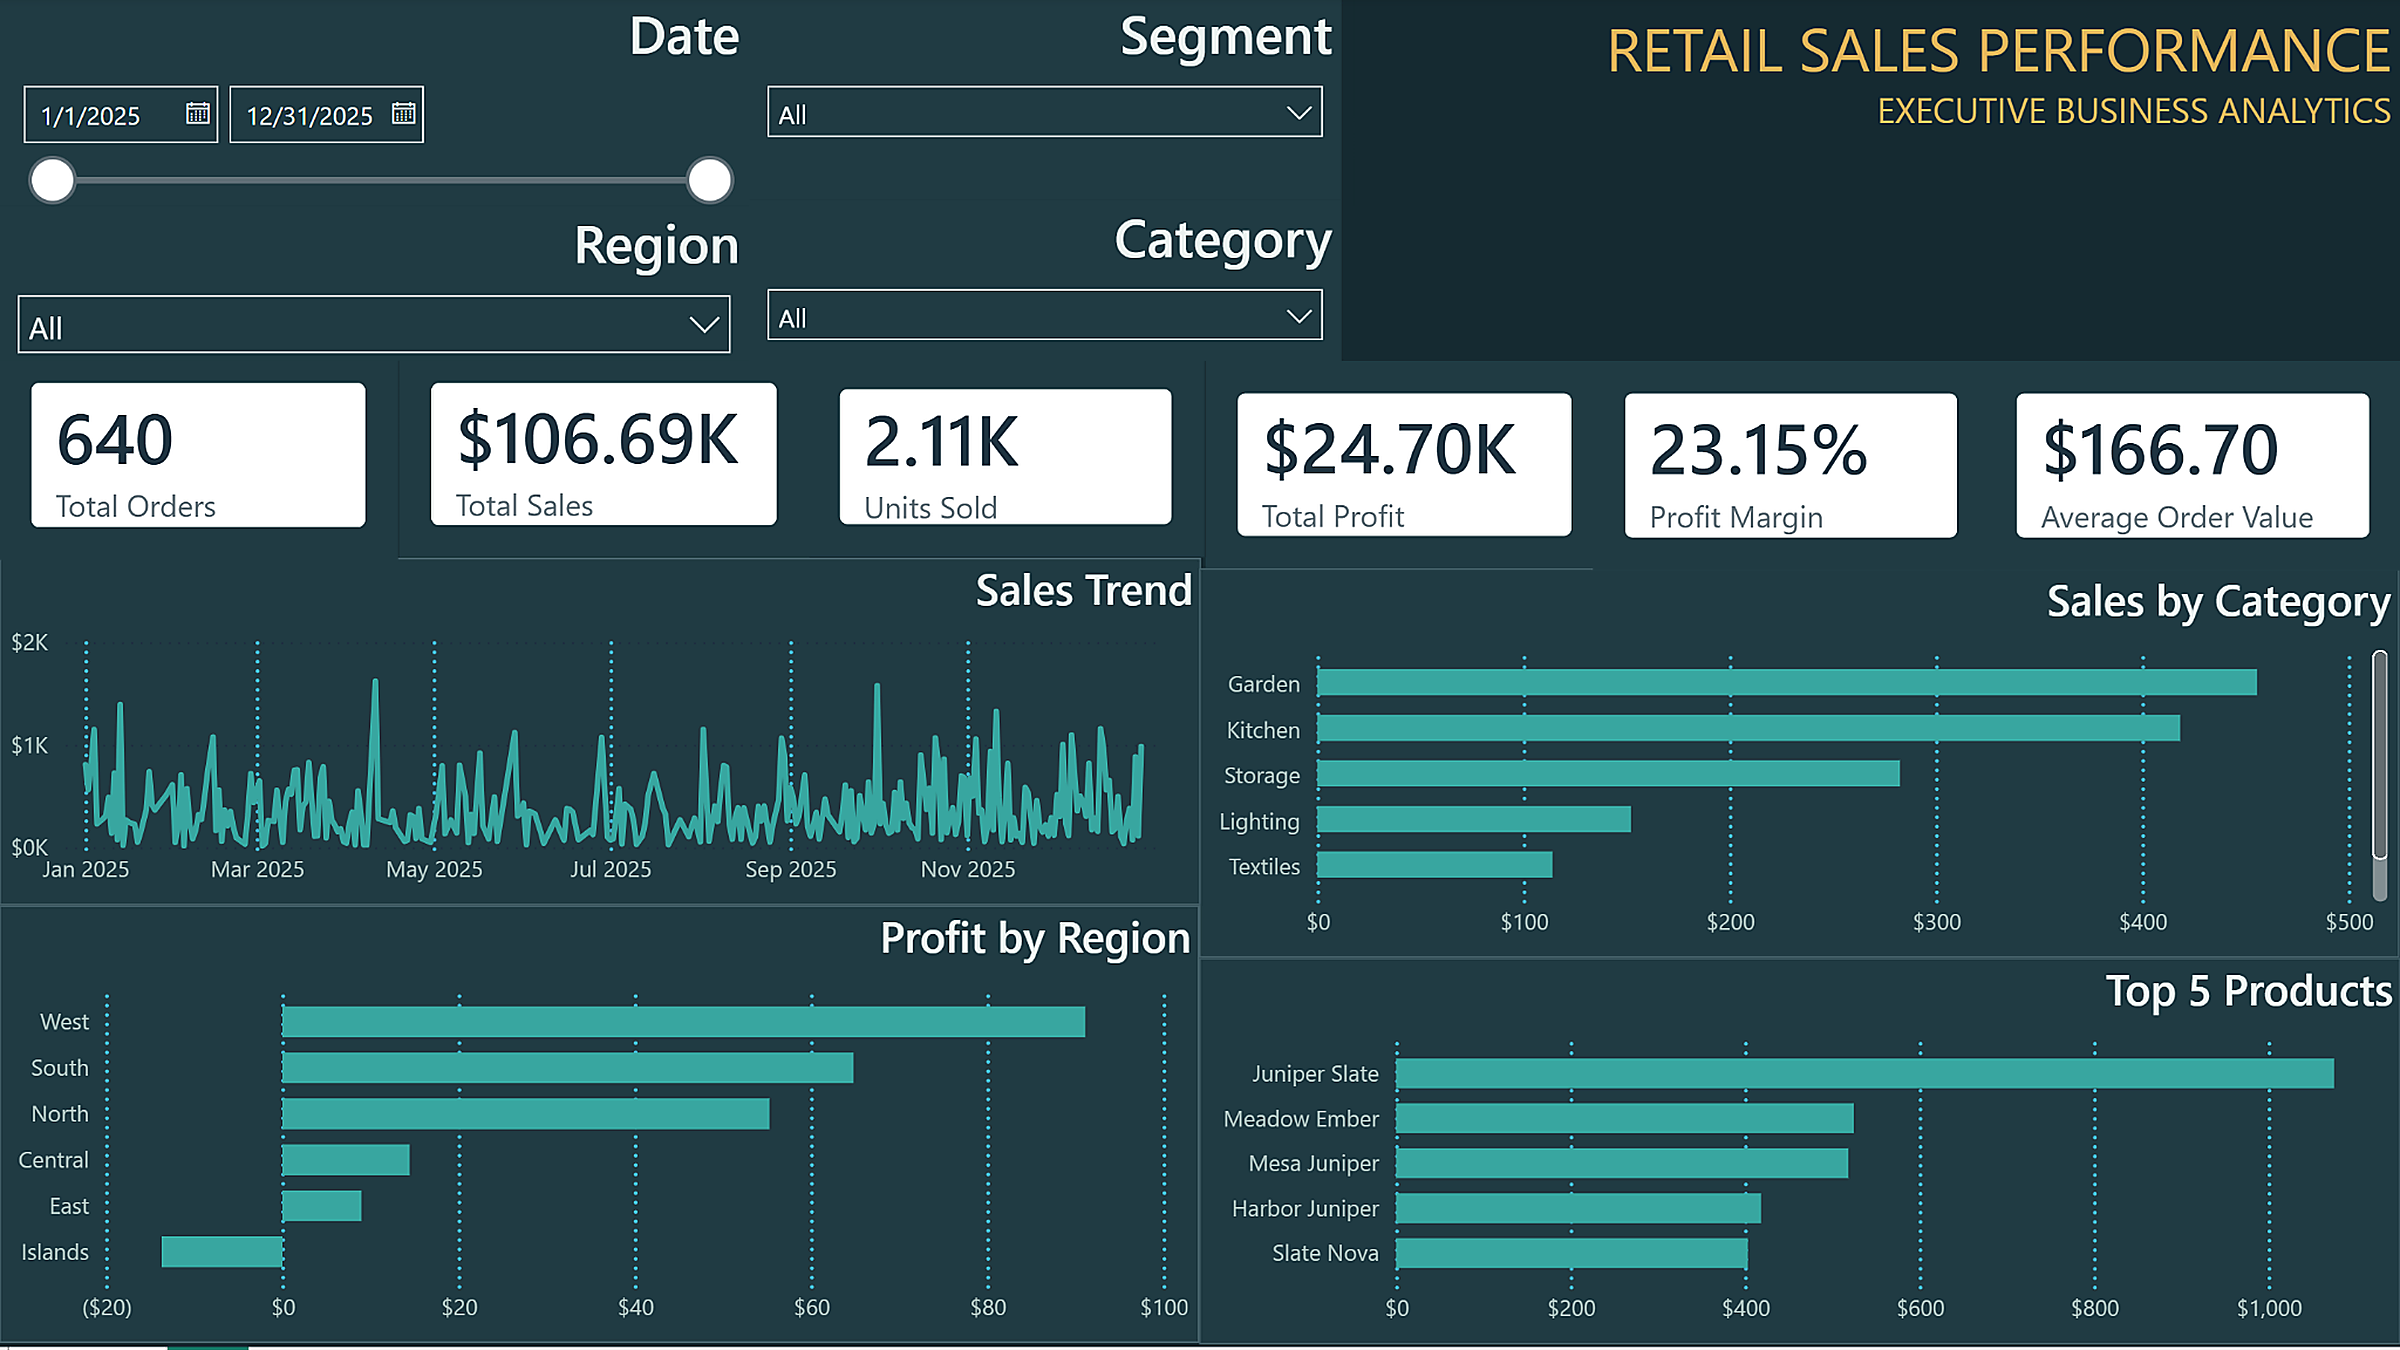

What the dashboard file says about the page in this screenshot:
{"tool":"powerbi","page":{"name":"Page 1","canvas":[1280,720],"ordinal":0},"visuals":[{"type":"lineChart","title":"Sales Trend","fields":{"Y":["تعداد، قیمت، تخفیف و سود اقلام.Total Sales"],"Category":["سفارشها، تاریخ و روش ارسال.order_date.Variation.Date Hierarchy.Year","سفارشها، تاریخ و روش ارسال.order_date.Variation.Date Hierarchy.Quarter","سفارشها، تاریخ و روش ارسال.order_date.Variation.Date Hierarchy.Month","سفارشها، تاریخ و روش ارسال.order_date.Variation.Date Hierarchy.Day"]},"box":[0,299.3,640.9,185.4],"z":0},{"type":"clusteredBarChart","title":"Sales by Category","fields":{"Category":["دستهبندی محصولات.category_name"],"Y":["تعداد، قیمت، تخفیف و سود اقلام.Total Sales"]},"box":[639.8,304.8,639.8,207.7],"z":1000},{"type":"clusteredBarChart","title":"Profit by Region","fields":{"Category":["مناطق فروش.region_name"],"Y":["تعداد، قیمت، تخفیف و سود اقلام.Total Profit"]},"box":[0,484.6,639.8,233.4],"z":2000},{"type":"clusteredBarChart","title":"Top 5 Products","fields":{"Category":["محصولات، قیمت و هزینه.product_name"],"Y":["تعداد، قیمت، تخفیف و سود اقلام.Total Sales"]},"box":[639.5,512.8,640.7,205.8],"z":3000},{"type":"cardVisual","fields":{"Data":["تعداد، قیمت، تخفیف و سود اقلام.Average Order Value"]},"box":[1058.1,194.2,222.1,111.6],"z":4000},{"type":"cardVisual","fields":{"Data":["تعداد، قیمت، تخفیف و سود اقلام.Profit Margin"]},"box":[850,194.2,211.6,111.6],"z":5000},{"type":"cardVisual","fields":{"Data":["تعداد، قیمت، تخفیف و سود اقلام.Total Orders"]},"box":[0,188.4,212.8,111.6],"z":6000},{"type":"cardVisual","fields":{"Data":["تعداد، قیمت، تخفیف و سود اقلام.Total Profit"]},"box":[643,194.2,212.8,110.5],"z":7000},{"type":"cardVisual","fields":{"Data":["تعداد، قیمت، تخفیف و سود اقلام.Total Sales"]},"box":[212.8,188.4,218.6,110.5],"z":8000},{"type":"cardVisual","fields":{"Data":["تعداد، قیمت، تخفیف و سود اقلام.Units Sold"]},"box":[431.4,191.9,211.6,107],"z":9000},{"type":"slicer","title":"Date","fields":{"Values":["سفارشها، تاریخ و روش ارسال.order_date"]},"box":[0,0,400,111.6],"z":10000},{"type":"slicer","title":"Region","fields":{"Values":["مناطق فروش.region_name"]},"box":[0,111.6,400,82.6],"z":11000},{"type":"slicer","title":"Category","fields":{"Values":["دستهبندی محصولات.category_name"]},"box":[399.8,108.3,316,86],"z":12000},{"type":"slicer","title":"Segment","fields":{"Values":["گروههای مشتریان.segment_name"]},"box":[399.8,0,316,108.3],"z":13000},{"type":"textbox","box":[722.5,0,558.3,111.7],"z":14000}]}

Visuals, with their boxes in screenshot pixels (x1, y1, x2, y2), scaled from the page's 1280x720 canvas onto the 2400x1350 screenshot:
"Sales Trend" lineChart: 0, 561, 1202, 909
"Sales by Category" clusteredBarChart: 1200, 572, 2399, 961
"Profit by Region" clusteredBarChart: 0, 909, 1200, 1346
"Top 5 Products" clusteredBarChart: 1199, 961, 2399, 1347
cardVisual - تعداد، قیمت، تخفیف و سود اقلام.Average Order Value: 1984, 364, 2399, 573
cardVisual - تعداد، قیمت، تخفیف و سود اقلام.Profit Margin: 1594, 364, 1990, 573
cardVisual - تعداد، قیمت، تخفیف و سود اقلام.Total Orders: 0, 353, 399, 562
cardVisual - تعداد، قیمت، تخفیف و سود اقلام.Total Profit: 1206, 364, 1605, 571
cardVisual - تعداد، قیمت، تخفیف و سود اقلام.Total Sales: 399, 353, 809, 560
cardVisual - تعداد، قیمت، تخفیف و سود اقلام.Units Sold: 809, 360, 1206, 560
"Date" slicer: 0, 0, 750, 209
"Region" slicer: 0, 209, 750, 364
"Category" slicer: 750, 203, 1342, 364
"Segment" slicer: 750, 0, 1342, 203
textbox: 1355, 0, 2399, 209
